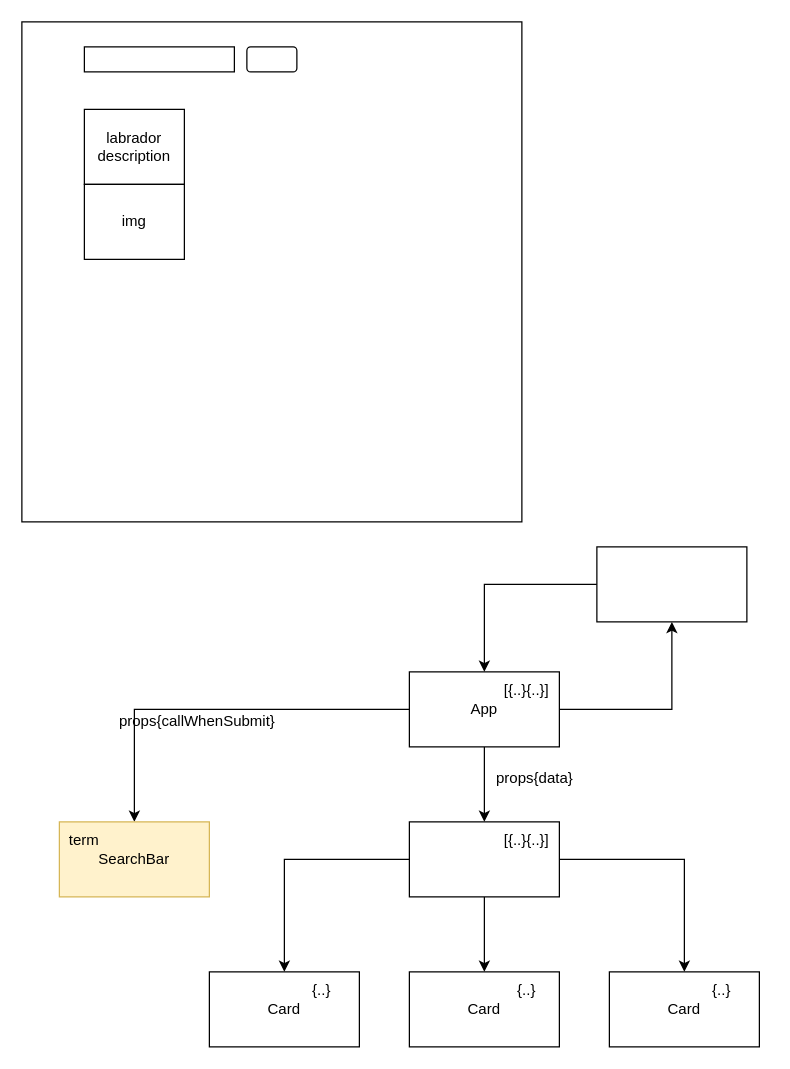
The diagram is 790 pixels wide and 1069 high, and some of its shapes have lost their labels. The box of each missing label's shape, as (x1, y1, x2, y2) in pixels:
api http://localhost:8080/breeds?search=term: (596, 546, 747, 622)
CardList: (408, 821, 559, 897)
search: (83, 46, 234, 72)
send: (246, 46, 297, 72)
